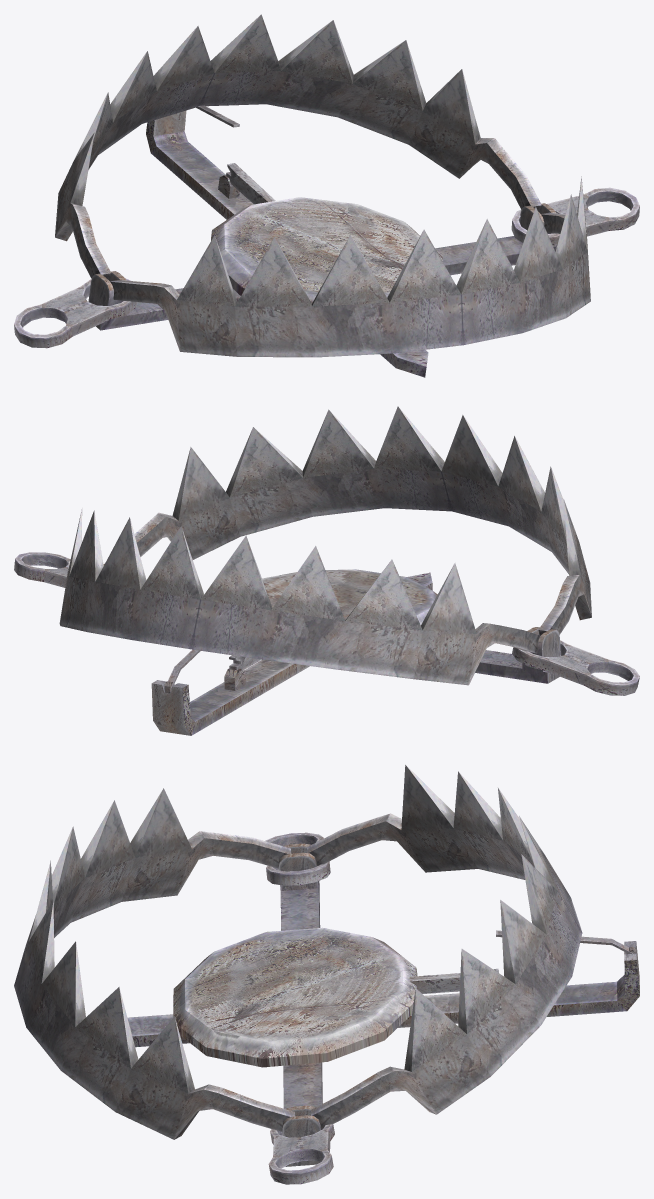
The picture shows the model from 3 angles, top to bottom: view 1: azimuth 30°, elevation 25°; view 2: azimuth 150°, elevation 25°; view 3: azimuth 270°, elevation 25°; orthographic projection. The views are drawn at different scales.
Parts seen in each view (by area): view 1: Trap_LeftSide, Trap_RightSide, Trap_Center, Trap_Cross, Trap_1, Trap_4; view 2: Trap_RightSide, Trap_LeftSide, Trap_Cross, Trap_1, Trap_Center; view 3: Trap_RightSide, Trap_LeftSide, Trap_Center, Trap_Cross, Trap_1, Trap_4.
Part boxes in pixels (x1,y1,x2,y2): Trap_LeftSide: (110, 176, 590, 357); Trap_RightSide: (55, 14, 541, 279); Trap_Center: (211, 197, 442, 303); Trap_Cross: (88, 110, 556, 377); Trap_1: (14, 187, 639, 348); Trap_4: (226, 163, 275, 204); Trap_RightSide: (59, 508, 540, 685); Trap_LeftSide: (134, 406, 591, 635); Trap_Cross: (103, 563, 560, 735); Trap_1: (14, 552, 639, 695); Trap_Center: (262, 569, 437, 625); Trap_RightSide: (307, 765, 582, 1129); Trap_LeftSide: (14, 788, 294, 1139); Trap_Center: (173, 927, 417, 1067); Trap_Cross: (127, 843, 639, 1166); Trap_1: (265, 832, 334, 1184); Trap_4: (409, 968, 498, 993).
Bounding box in the file's own units: 150 × 49.01 × 125.
1 material, 1 textured.
